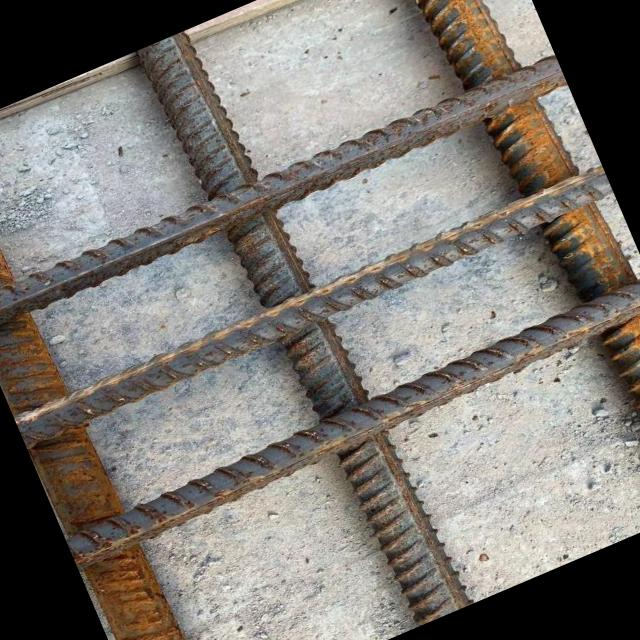ribbed bar: (132, 13, 473, 640), (58, 273, 640, 572), (12, 162, 616, 450), (0, 51, 567, 336), (383, 0, 640, 533), (0, 120, 220, 640)
